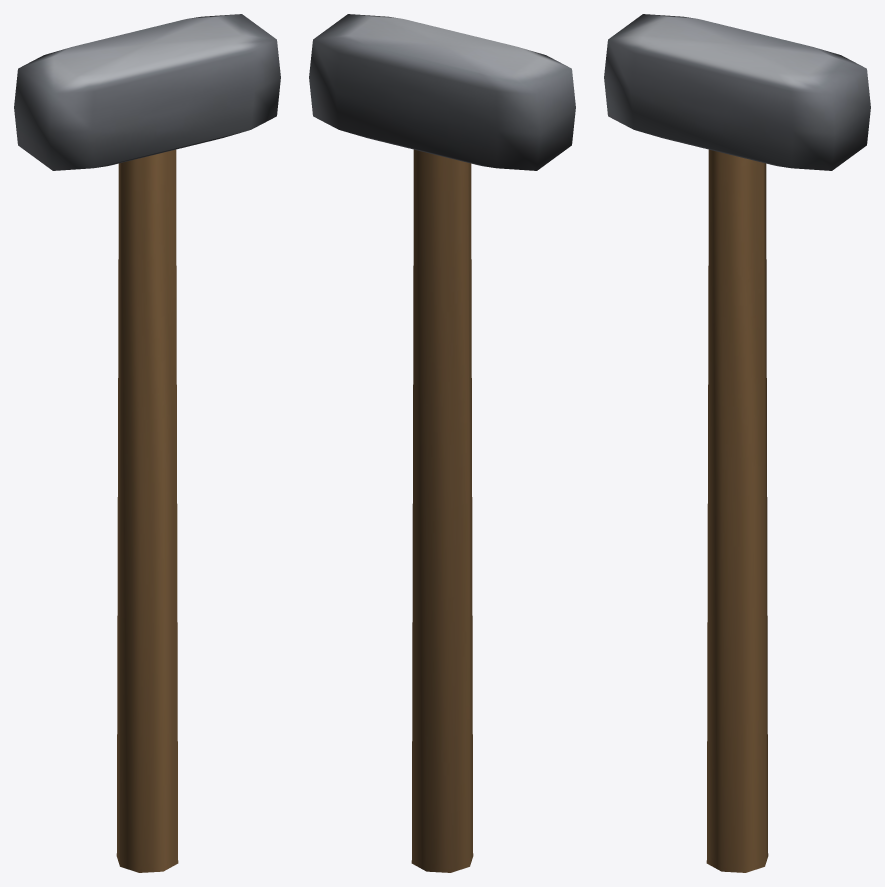
File: marteau.glb
3 views of the same model, side by side, from view 1: azimuth 30°, elevation 25°; view 2: azimuth 150°, elevation 25°; view 3: azimuth 330°, elevation 25° (orthographic).
Parts seen in each view (by area): view 1: marteau; view 2: marteau; view 3: marteau.
Part boxes in pixels (x1,y1,x2,y2): marteau: [14, 14, 280, 872]; marteau: [309, 14, 575, 872]; marteau: [604, 14, 870, 872].
Size of the model in its own units: 0.1259 by 0.425 by 0.0484.
Materials: 1 (1 with a texture image).
